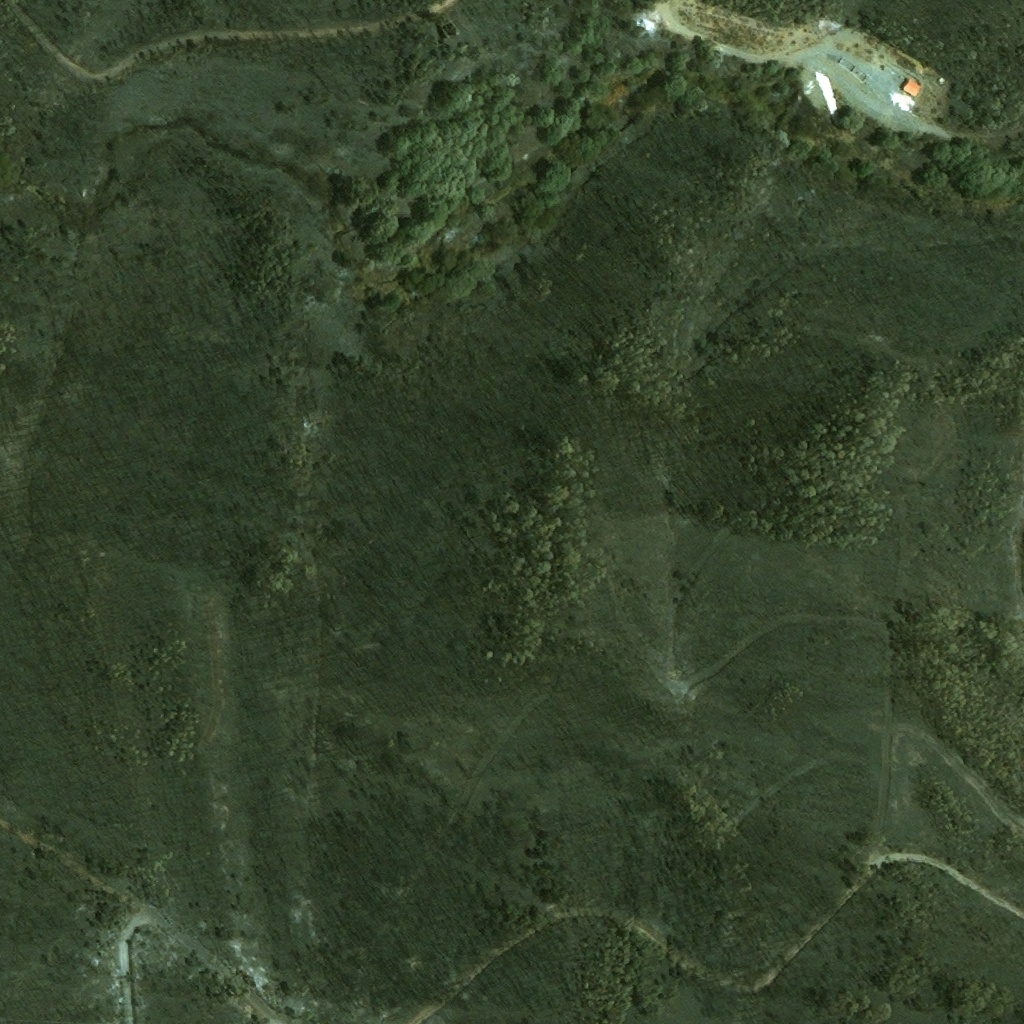0 no-damage: (903, 79, 920, 97)
